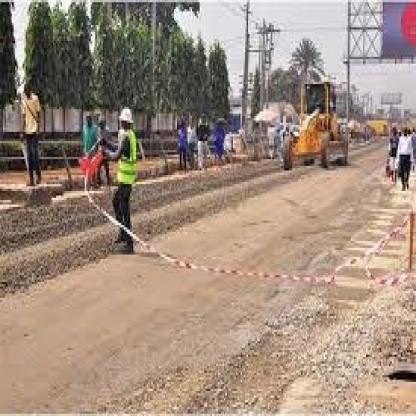car: (276, 66, 350, 178)
